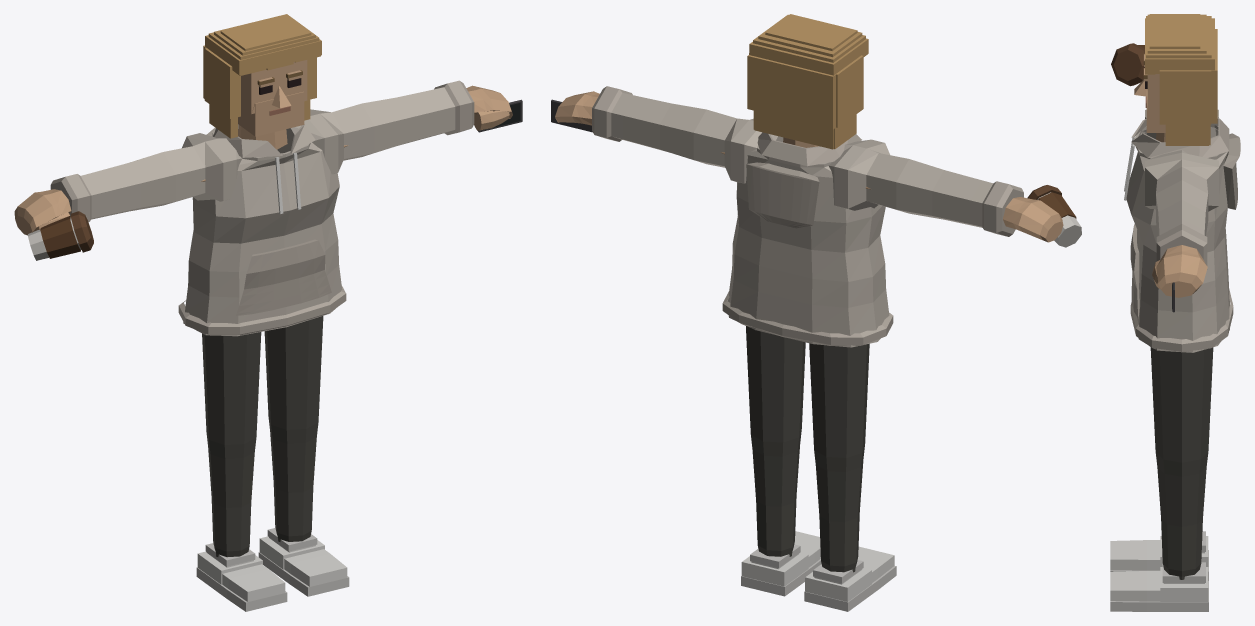
Rendered from student-in-a-hoodie-7c8223.glb.
3 views of the same model, side by side, from view 1: azimuth 30°, elevation 25°; view 2: azimuth 150°, elevation 25°; view 3: azimuth 270°, elevation 25° (orthographic). The views are drawn at different scales.
Visible parts, largest first — view 1: student-in-a-hoodie-7c8223; view 2: student-in-a-hoodie-7c8223; view 3: student-in-a-hoodie-7c8223.
Boxes of the visible parts, box(x1,y1,x2,y2) form: student-in-a-hoodie-7c8223: box(14, 14, 522, 611); student-in-a-hoodie-7c8223: box(551, 14, 1081, 611); student-in-a-hoodie-7c8223: box(1110, 14, 1240, 611).
Size of the model in its own units: 1.7 by 1.74 by 0.3707.
